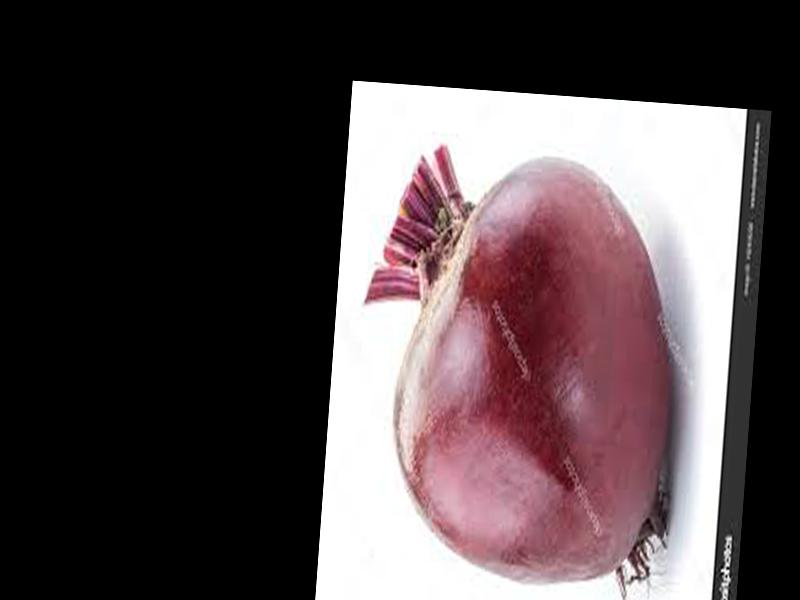Beet: (349, 144, 689, 591)
